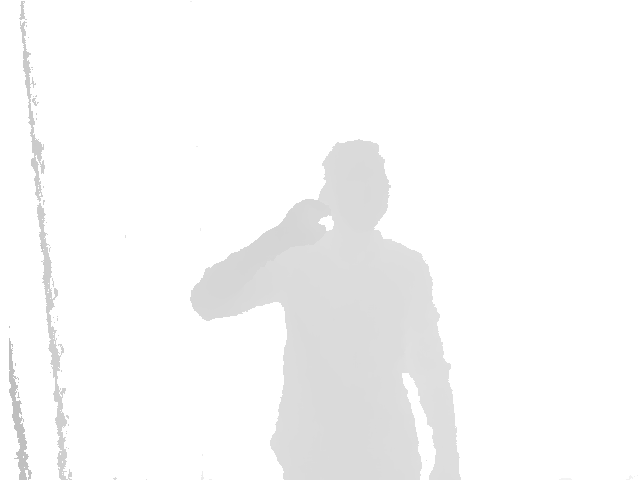head: (321, 140, 391, 234)
person: (189, 139, 464, 480)
